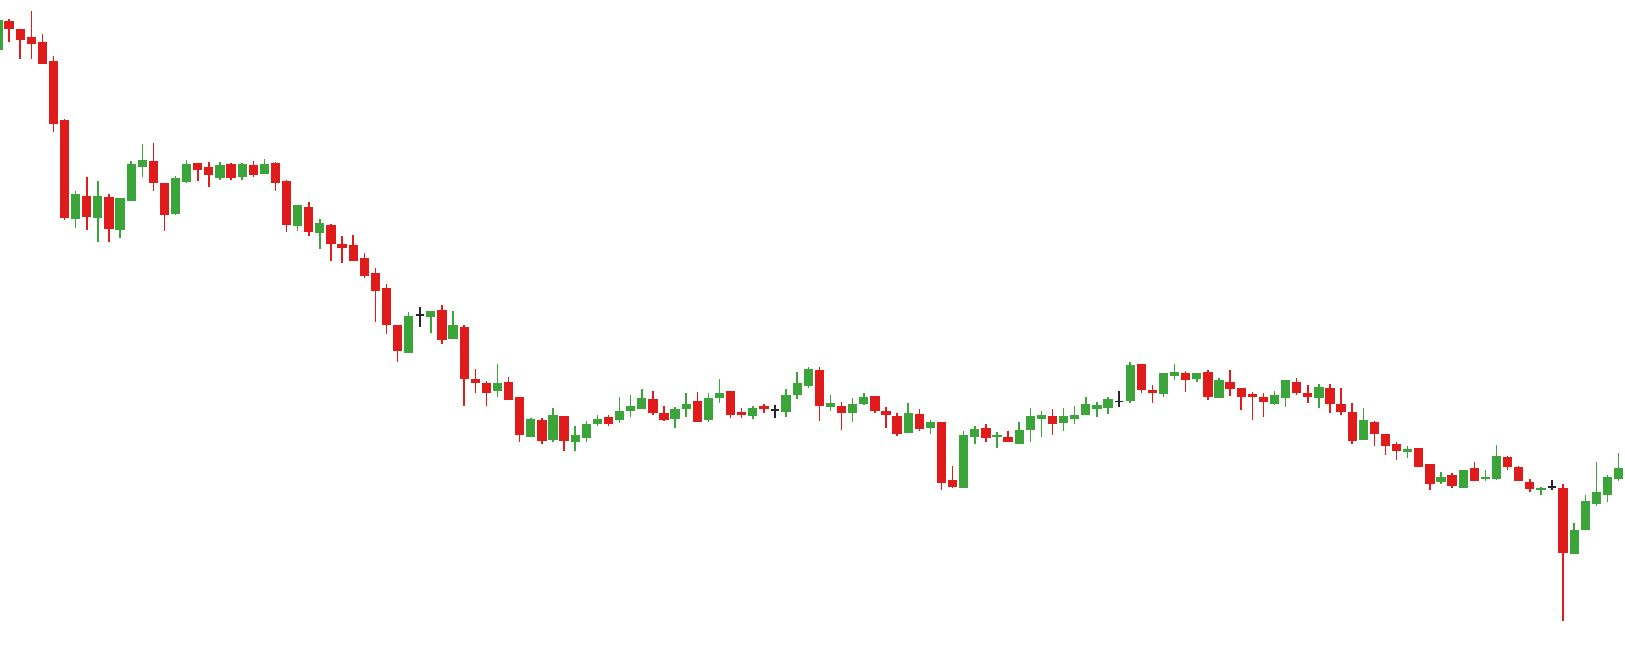sell: (714, 371, 826, 412)
